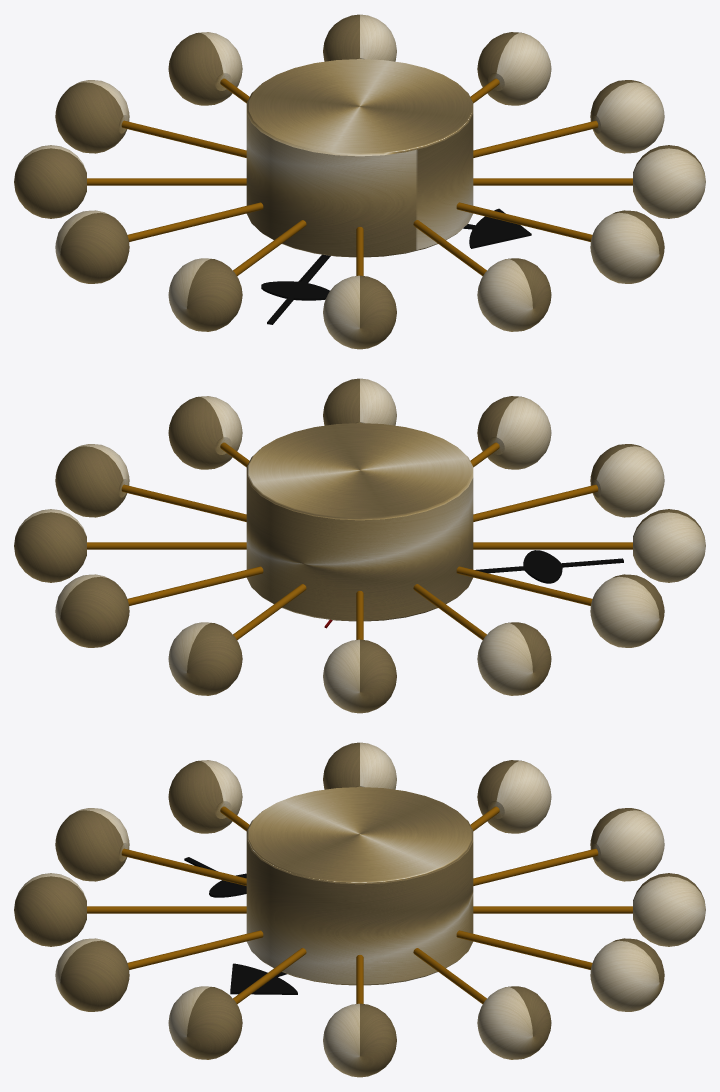
The model's file is vitra_ball_clock_mat(5).obj.
The picture shows the model from 3 angles, top to bottom: view 1: azimuth 30°, elevation 25°; view 2: azimuth 150°, elevation 25°; view 3: azimuth 270°, elevation 25°; orthographic projection.
Visible parts, largest first — view 1: vitra_ball_clock_mat5; view 2: vitra_ball_clock_mat5; view 3: vitra_ball_clock_mat5.
Part boxes in pixels (x1,y1,x2,y2): vitra_ball_clock_mat5: (14,14,705,349); vitra_ball_clock_mat5: (14,378,705,713); vitra_ball_clock_mat5: (14,742,705,1077).
Bounding box in the file's own units: 33.15 × 6.15 × 33.15.
